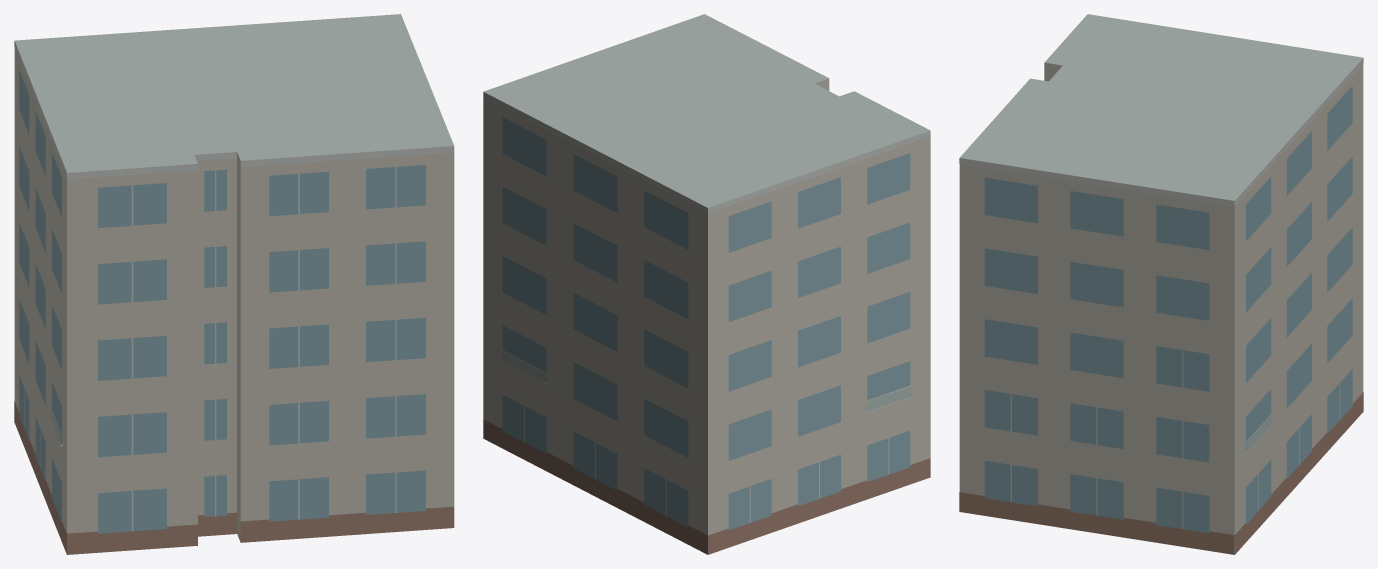
The model's file is survey-upis-32887629.glb.
3 renders of one model, left to right at view 1: azimuth 30°, elevation 25°; view 2: azimuth 150°, elevation 25°; view 3: azimuth 270°, elevation 25°, orthographic. The views are drawn at different scales.
Parts seen in each view (by area): view 1: survey-upis-32887629.tmp; view 2: survey-upis-32887629.tmp; view 3: survey-upis-32887629.tmp.
Part boxes in pixels (<box>): survey-upis-32887629.tmp: <box>14,14,454,554</box>; survey-upis-32887629.tmp: <box>483,14,930,554</box>; survey-upis-32887629.tmp: <box>959,14,1363,554</box>.
Bounding box in the file's own units: 16.32 × 14.4 × 14.91.
